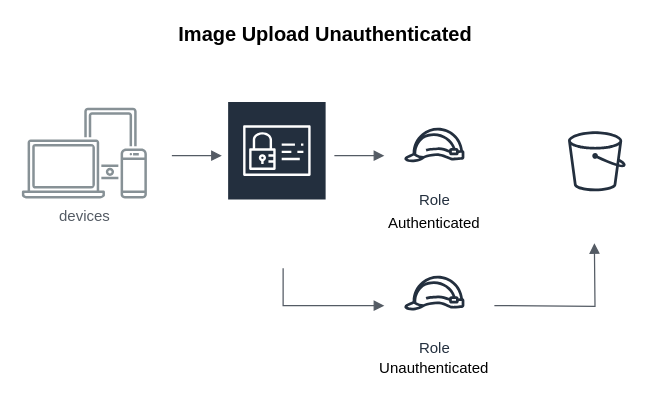
Some shapes in this 656 by 401 pixel diagram are drawn without their labels. Each missing label, with the box of its shape:
AWS Identity and Access Management: (226, 99, 327, 251)
Bucket: (558, 122, 634, 199)
